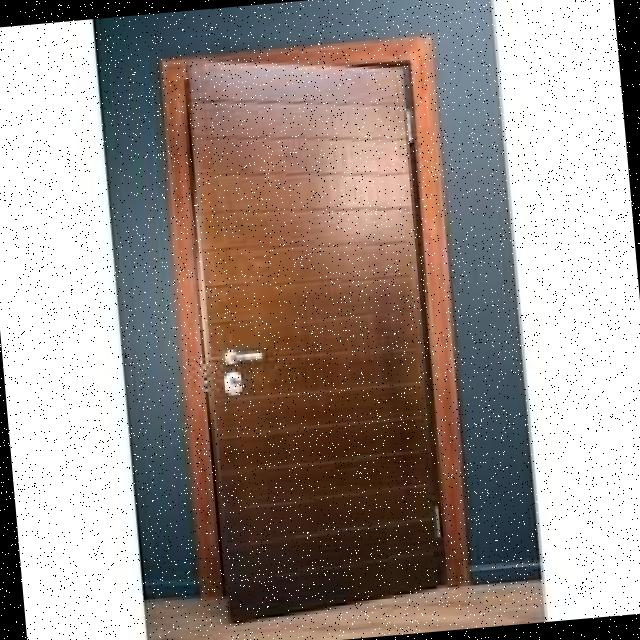Door: (164, 31, 473, 630)
